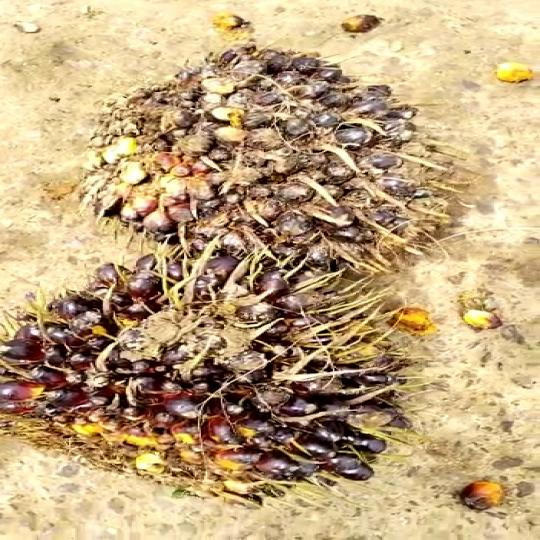mentah: (0, 218, 414, 515), (96, 43, 485, 261)
